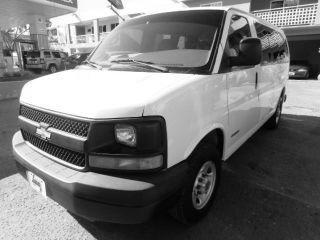car: (12, 7, 289, 232)
